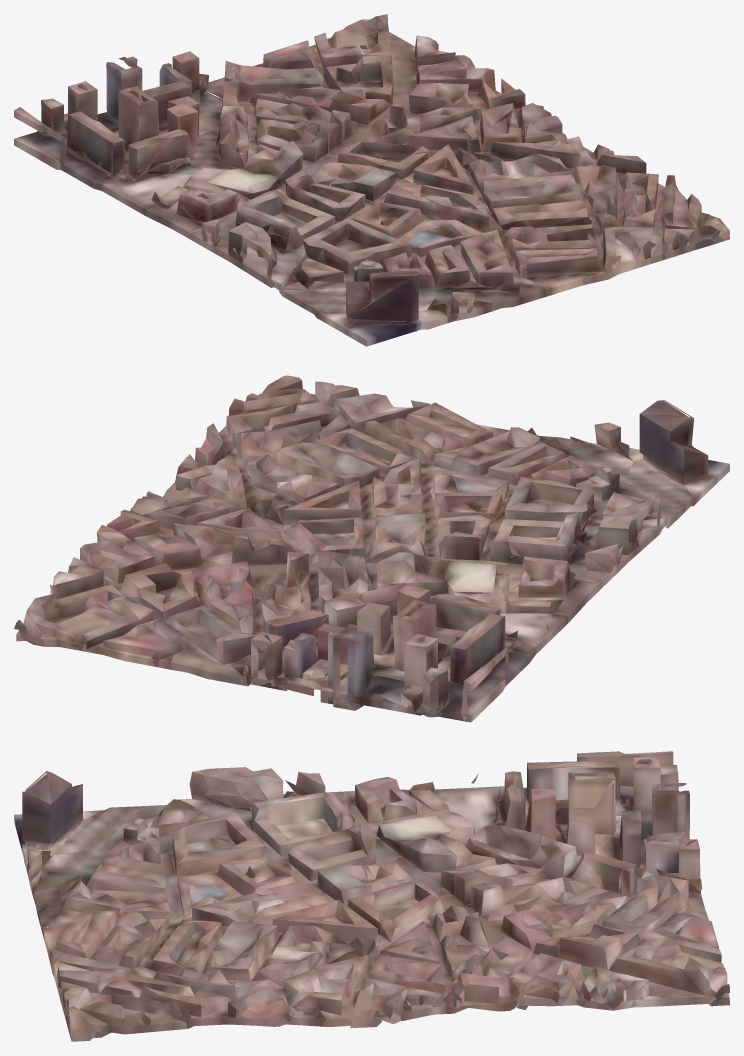
3 views of the same model, one above another, from view 1: azimuth 30°, elevation 25°; view 2: azimuth 150°, elevation 25°; view 3: azimuth 270°, elevation 25° (orthographic). The views are drawn at different scales.
Visible parts, largest first — view 1: Mesh_0; view 2: Mesh_0; view 3: Mesh_0.
Part boxes in pixels (x1,y1,x2,y2): Mesh_0: (14,14,729,346); Mesh_0: (14,375,729,722); Mesh_0: (14,751,729,1041).
Size of the model in its own units: 532 by 72.19 by 659.
1 material, 1 textured.
